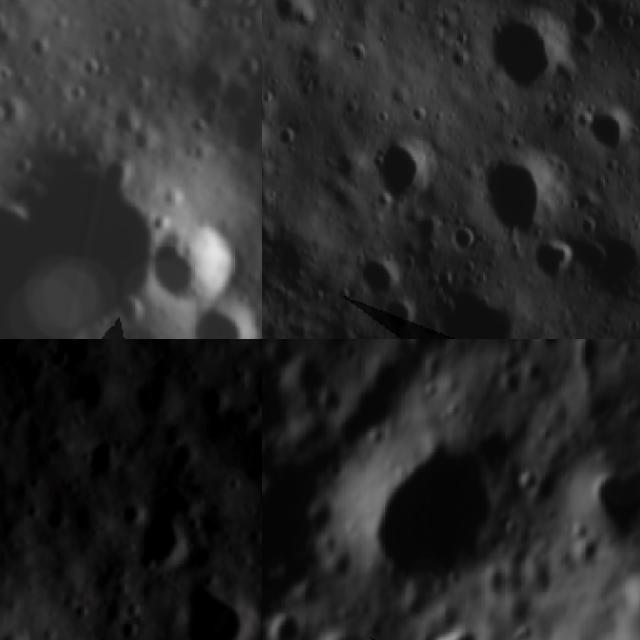crater: (342, 435, 508, 601), (140, 217, 250, 310), (566, 458, 640, 558), (161, 574, 262, 640), (480, 154, 552, 233), (489, 13, 566, 82), (381, 135, 432, 211), (128, 510, 188, 574), (181, 295, 262, 339), (76, 430, 133, 490), (277, 350, 334, 403), (192, 378, 248, 429), (593, 109, 636, 158), (357, 249, 402, 292), (38, 498, 79, 543), (536, 242, 586, 278), (38, 342, 80, 384), (569, 0, 612, 39), (126, 117, 166, 158), (428, 618, 482, 640), (488, 374, 526, 405), (102, 154, 136, 188), (0, 617, 49, 640), (270, 606, 302, 640), (384, 302, 424, 328), (117, 594, 149, 626), (116, 498, 147, 531), (626, 565, 640, 634), (331, 615, 368, 640), (455, 220, 478, 260), (608, 339, 640, 367), (66, 594, 95, 624), (6, 150, 37, 178), (182, 511, 210, 542), (278, 122, 304, 154), (110, 617, 143, 640), (345, 41, 374, 63), (524, 462, 546, 491), (221, 473, 245, 499), (447, 50, 471, 71), (535, 339, 569, 352), (406, 339, 437, 352)
